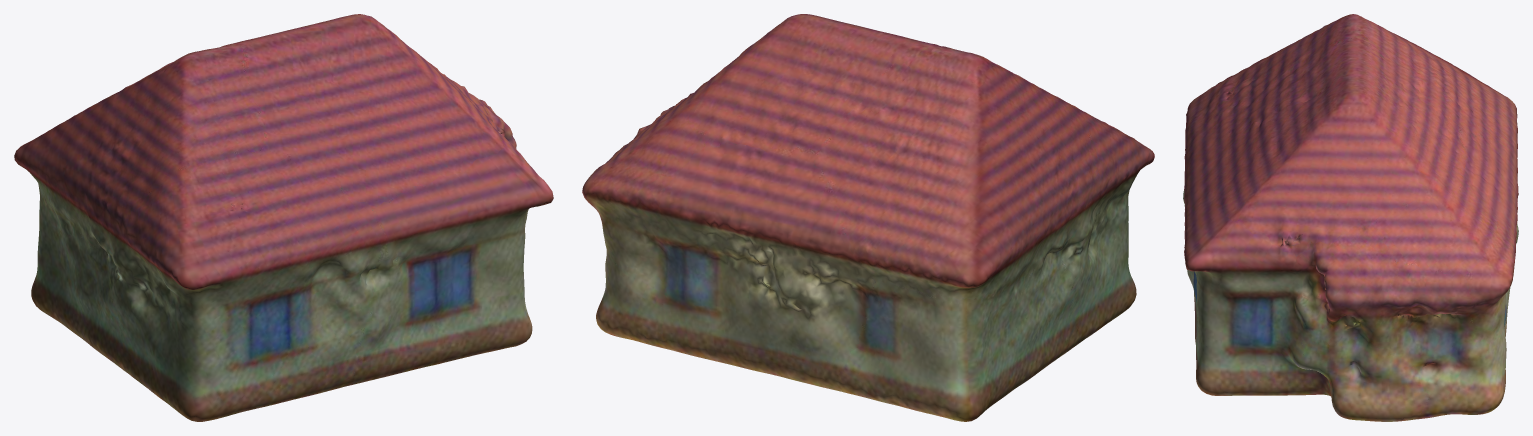
3 renders of one model, left to right at view 1: azimuth 30°, elevation 25°; view 2: azimuth 150°, elevation 25°; view 3: azimuth 270°, elevation 25°, orthographic. The views are drawn at different scales.
Visible parts, largest first — view 1: Mesh1; view 2: Mesh1; view 3: Mesh1.
Boxes of the visible parts, left/top/right/bottom form: Mesh1: left=14, top=14, right=553, bottom=421; Mesh1: left=582, top=14, right=1154, bottom=421; Mesh1: left=1183, top=14, right=1518, bottom=421.
Bounding box in the file's own units: 1.2 × 0.8589 × 0.9177.
1 material, 1 textured.
